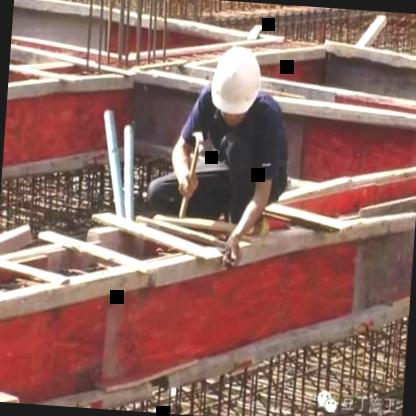helmet: (204, 36, 268, 124)
